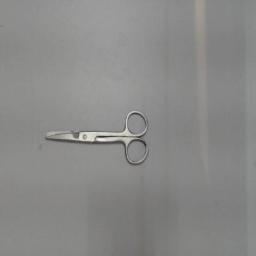Dressing Scissors: (39, 106, 153, 172)
